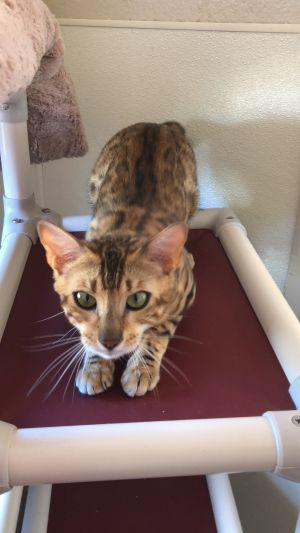bengal: (29, 212, 204, 366)
